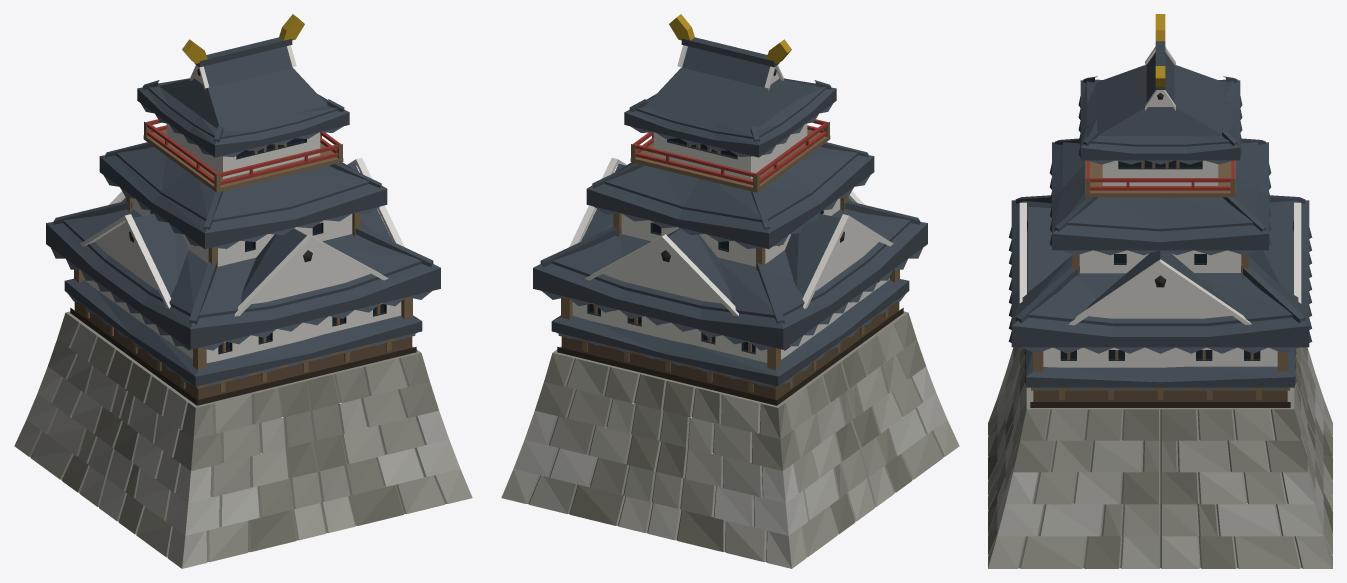
The model's file is tenshu-keep-2ff636.glb.
3 renders of one model, left to right at view 1: azimuth 30°, elevation 25°; view 2: azimuth 150°, elevation 25°; view 3: azimuth 270°, elevation 25°, orthographic. The views are drawn at different scales.
Parts seen in each view (by area): view 1: tenshu-keep; view 2: tenshu-keep; view 3: tenshu-keep.
Boxes of the visible parts, box(x1,y1,x2,y2) form: tenshu-keep: box(14, 14, 472, 568); tenshu-keep: box(501, 14, 959, 568); tenshu-keep: box(988, 14, 1332, 568).
Size of the model in its own units: 12 by 17.51 by 12.
